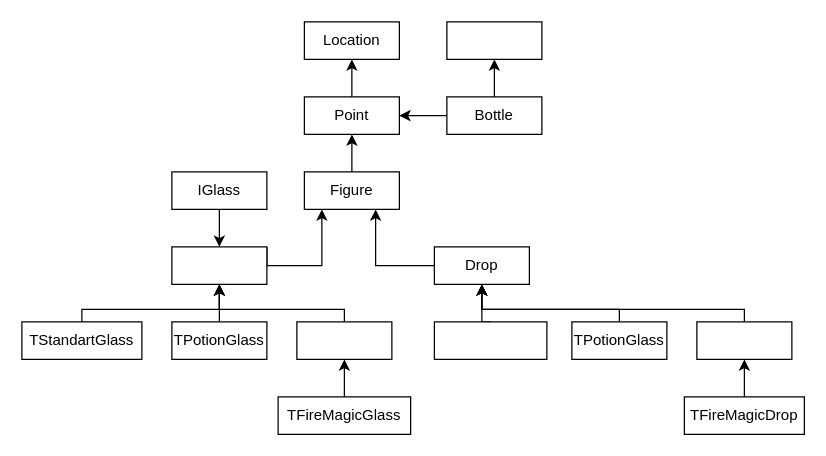
Image size: 826x456. Some labels were removed from this diagram. The shapes that lost their labels are listed below. From the top down, each one's centre as x and y in pixels, then its label:
At [494,40]: "IBottle".
At [219,265]: "Glass".
At [344,340]: "TMagicGlass".
At [490,340]: "TStandartDrop".
At [744,340]: "TMagicDrop".
